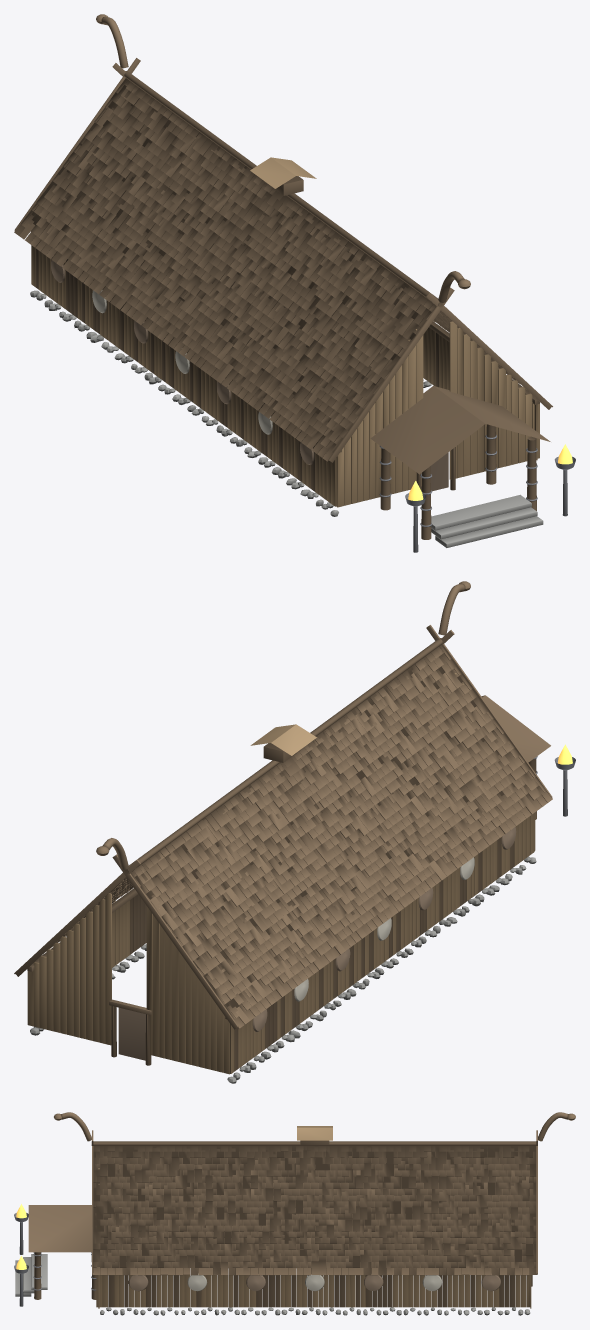
The model's file is dh_hall.glb.
3 views of the same model, one above another, from view 1: azimuth 30°, elevation 25°; view 2: azimuth 150°, elevation 25°; view 3: azimuth 270°, elevation 25° (orthographic). The views are drawn at different scales.
Parts seen in each view (by area): view 1: dh_hall; view 2: dh_hall; view 3: dh_hall.
Boxes of the visible parts, left/top/right/bottom form: dh_hall: left=14, top=14, right=575, bottom=552; dh_hall: left=14, top=581, right=575, bottom=1083; dh_hall: left=14, top=1112, right=575, bottom=1315.
Bounding box in the file's own units: 10.29 × 10.28 × 31.23.
